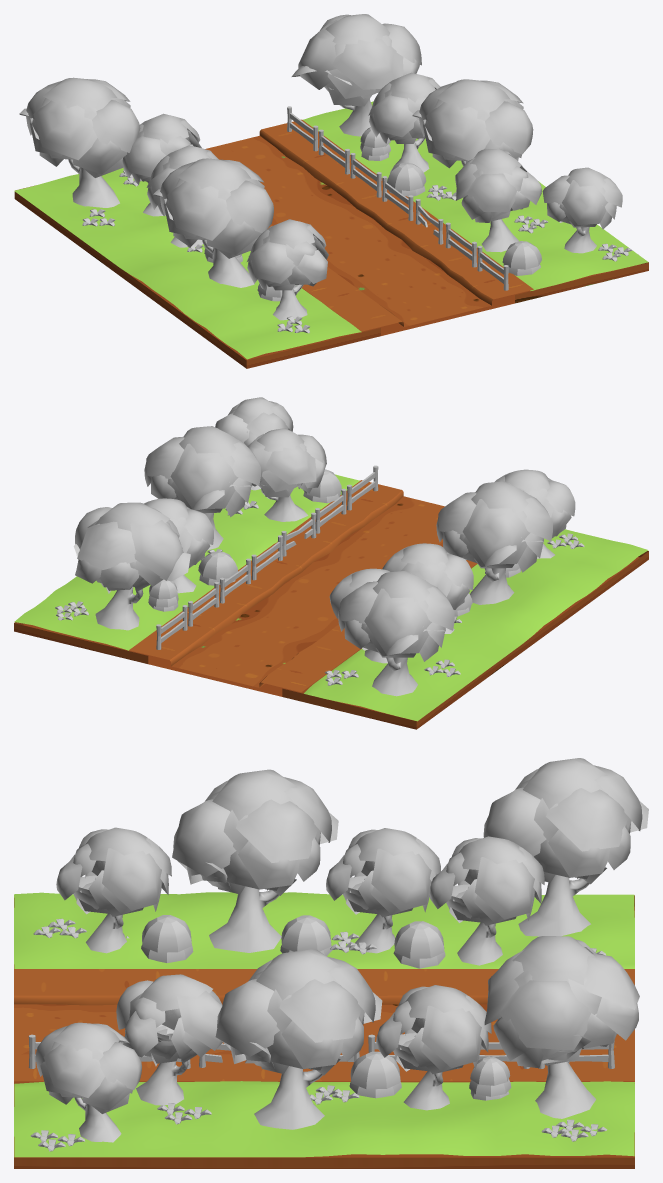
File: Forest1.fbx
3 renders of one model, top to bottom at view 1: azimuth 30°, elevation 25°; view 2: azimuth 150°, elevation 25°; view 3: azimuth 270°, elevation 25°, orthographic. The views are drawn at different scales.
Parts seen in each view (by area): view 1: road_I_2.042, Plane.031, road_I_2.084, BOSQUELOWPOLY.016, BOSQUELOWPOLY.114, BOSQUELOWPOLY.018, BOSQUELOWPOLY.002, road_I_2.070, Cube.021, BOSQUELOWPOLY.031, BOSQUELOWPOLY.003, BOSQUELOWPOLY.066 (+9 smaller); view 2: road_I_2.042, Plane.031, road_I_2.084, BOSQUELOWPOLY.018, BOSQUELOWPOLY.016, BOSQUELOWPOLY.114, BOSQUELOWPOLY.002, road_I_2.070, Cube.021, BOSQUELOWPOLY.031, WoodFence2, BOSQUELOWPOLY.004 (+9 smaller); view 3: road_I_2.084, road_I_2.042, BOSQUELOWPOLY.114, BOSQUELOWPOLY.002, BOSQUELOWPOLY.018, BOSQUELOWPOLY.016, BOSQUELOWPOLY.031, BOSQUELOWPOLY.005, BOSQUELOWPOLY.001, BOSQUELOWPOLY.003, Cube.021, BOSQUELOWPOLY.004 (+11 smaller).
Boxes of the visible parts, x1,y1,x2,y2 form: road_I_2.042: (14,168,361,359); Plane.031: (205,135,491,326); road_I_2.084: (303,101,648,290); BOSQUELOWPOLY.016: (19,77,140,207); BOSQUELOWPOLY.114: (153,158,273,287); BOSQUELOWPOLY.018: (291,14,421,136); BOSQUELOWPOLY.002: (412,79,533,168); road_I_2.070: (261,119,533,299); Cube.021: (14,185,648,368); BOSQUELOWPOLY.031: (455,148,541,252); BOSQUELOWPOLY.003: (247,219,328,320); BOSQUELOWPOLY.066: (542,167,622,253); road_I_2.042: (304,529,648,721); Plane.031: (171,496,444,687); road_I_2.084: (14,474,359,650); BOSQUELOWPOLY.018: (73,502,190,630); BOSQUELOWPOLY.016: (338,570,454,696); BOSQUELOWPOLY.114: (436,481,552,604); BOSQUELOWPOLY.002: (144,426,260,550); road_I_2.070: (129,480,401,659); Cube.021: (14,551,648,729); BOSQUELOWPOLY.031: (247,428,326,521); WoodFence2: (156,465,378,649); BOSQUELOWPOLY.004: (382,543,473,633); road_I_2.084: (14,1081,634,1157); road_I_2.042: (14,892,634,968); BOSQUELOWPOLY.114: (172,769,338,952); BOSQUELOWPOLY.002: (215,949,382,1129); BOSQUELOWPOLY.018: (484,936,639,1118); BOSQUELOWPOLY.016: (483,758,648,936); BOSQUELOWPOLY.031: (116,974,222,1105); BOSQUELOWPOLY.005: (429,836,544,965); BOSQUELOWPOLY.001: (376,985,491,1110); BOSQUELOWPOLY.003: (56,827,171,953); Cube.021: (14,895,634,1168); BOSQUELOWPOLY.004: (326,828,440,953).
Size of the model in its own units: 10108 by 3002 by 10230.
